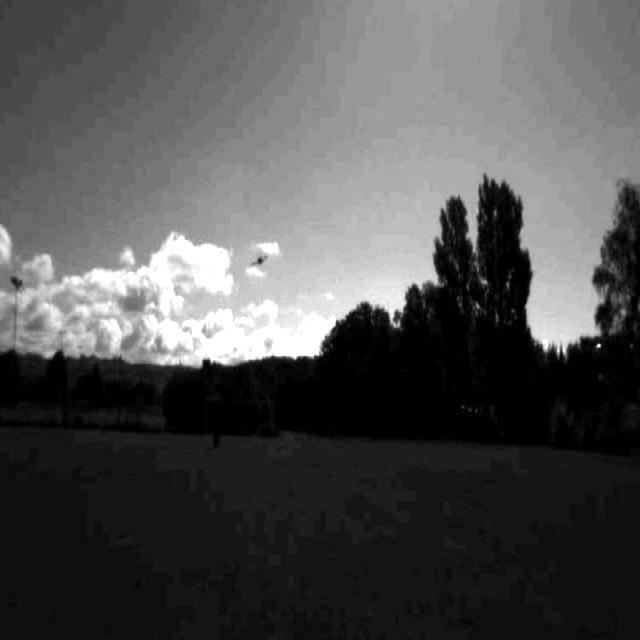drone: (245, 247, 272, 274)
